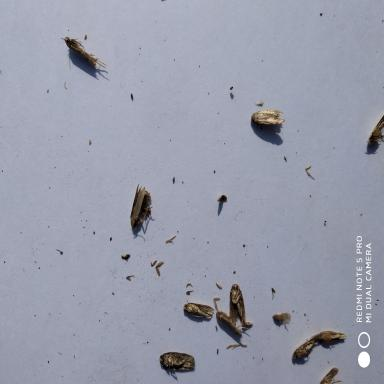pbw: (59, 33, 109, 75), (128, 180, 154, 232), (215, 307, 244, 342), (158, 350, 196, 373), (249, 107, 286, 130), (290, 332, 318, 362), (228, 281, 246, 327), (181, 298, 215, 320), (365, 114, 384, 150), (317, 328, 347, 348), (319, 366, 344, 384), (271, 310, 293, 327), (216, 192, 228, 206), (242, 320, 253, 329)
